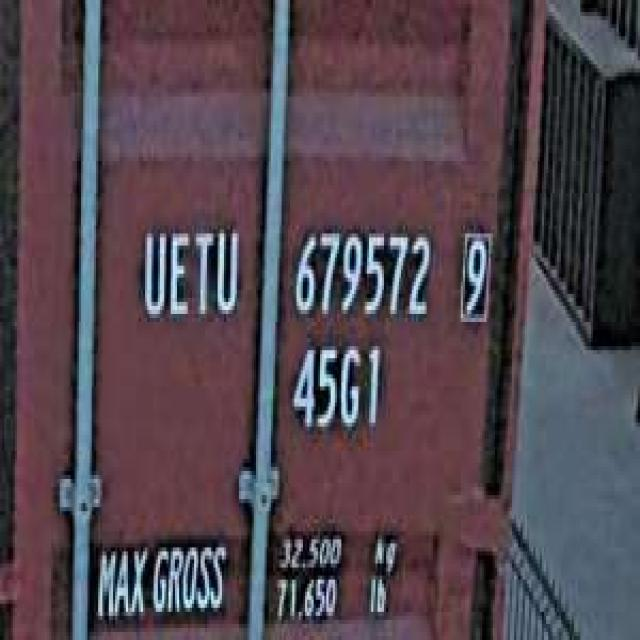dv: (454, 217, 495, 330)
owner: (134, 213, 243, 330)
serial: (288, 217, 435, 330)
size: (286, 334, 384, 443)
